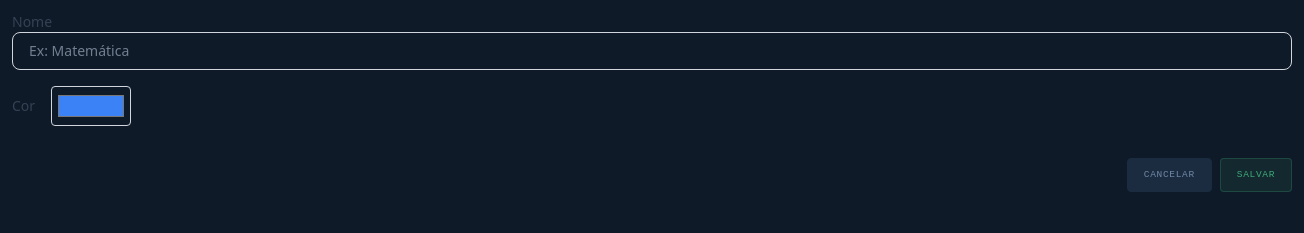
Test: SubjectForm › deve disparar erros de validação ao submeter dados vazios
This screenshot has width=1304, height=233.
What coordinates should you click on to do the following:
click the button "Salvar"
I would click on:
 (1256, 175)
Its box is top-left (1220, 158), bottom-right (1292, 192).
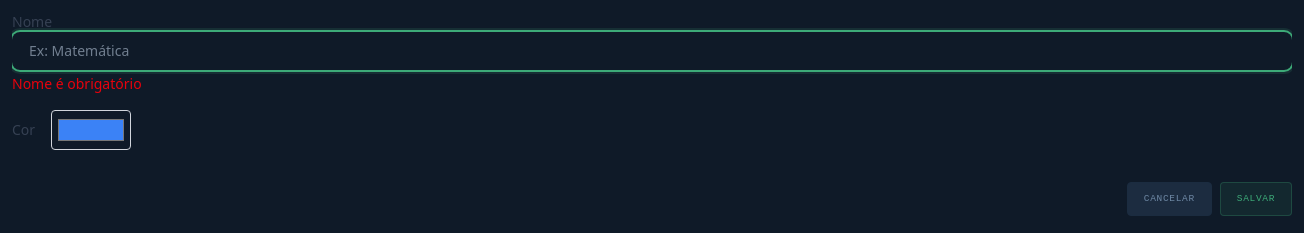
Expected: the text "Nome é obrigatório" is shown, top-left (12, 74), bottom-right (142, 93)
